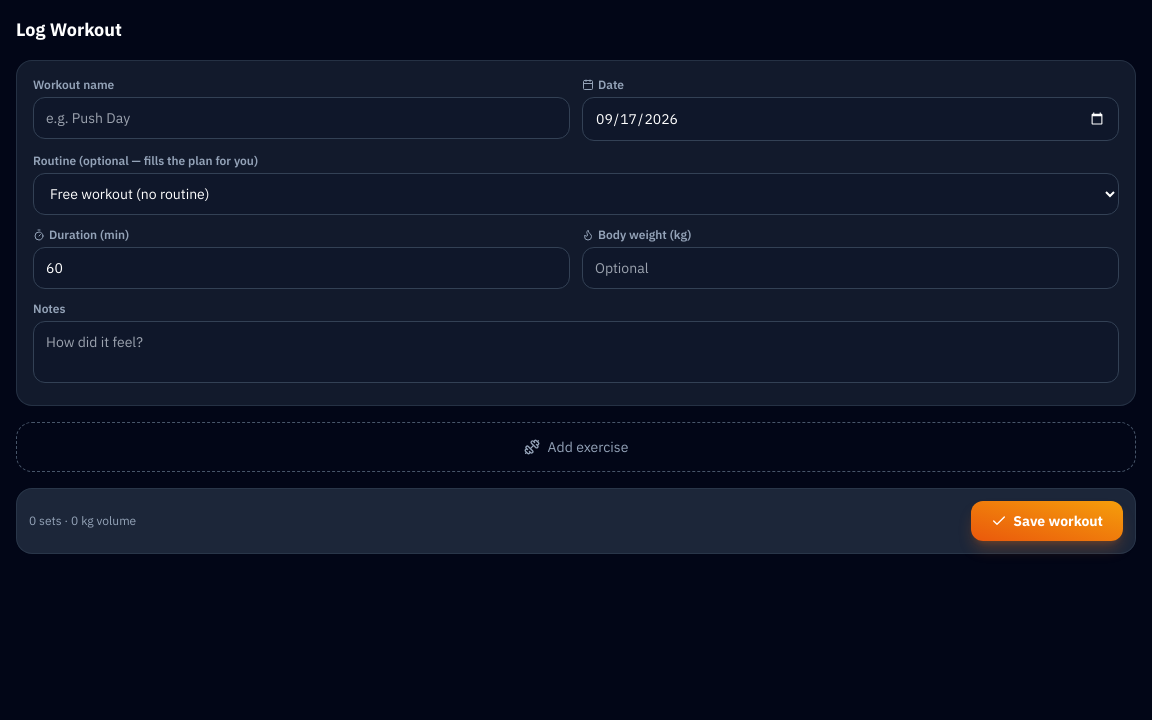
LogWorkoutScreen › refuses to save a workout with no sets
This screenshot has width=1152, height=720.
Click the button "Save workout" at (1047, 521), box [971,501,1123,541]
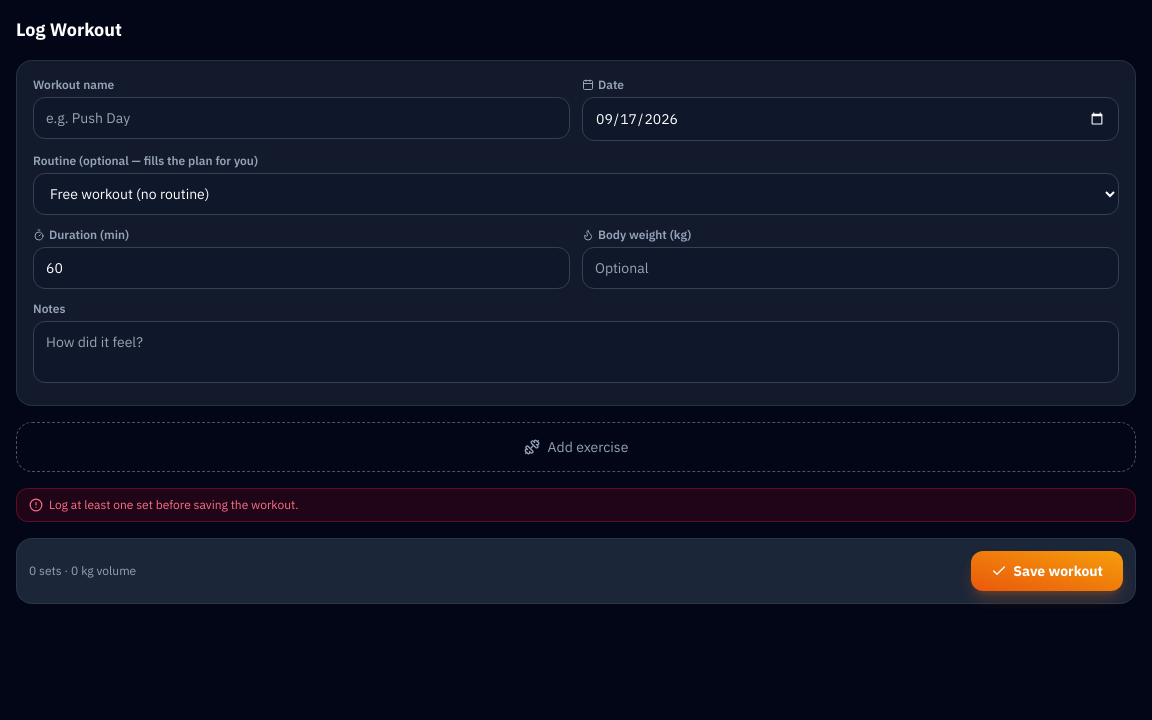
Now the text "Log at least one set before saving the workout." is shown, box [16,488,1136,522]
